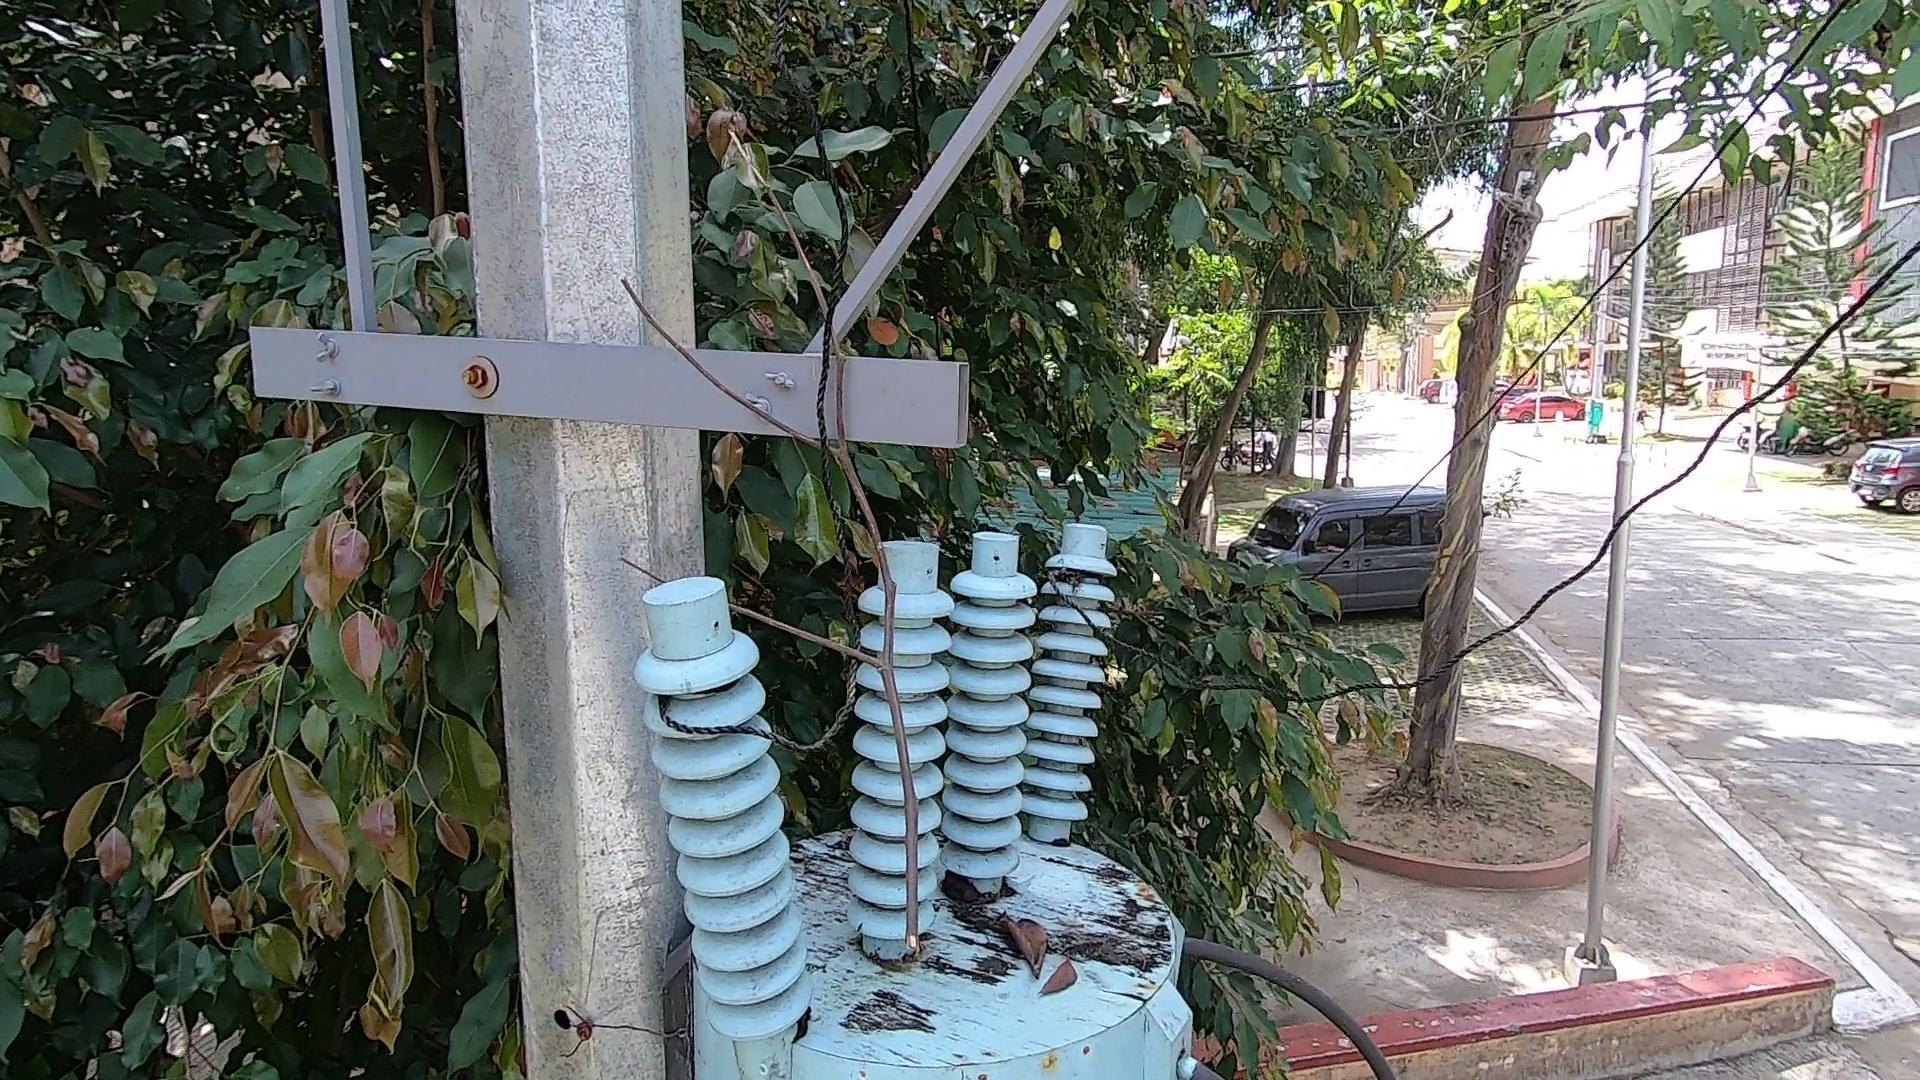leaf: (1002, 907, 1047, 982), (949, 860, 988, 928), (1026, 963, 1087, 1000)
tree branch: (613, 116, 952, 967)
